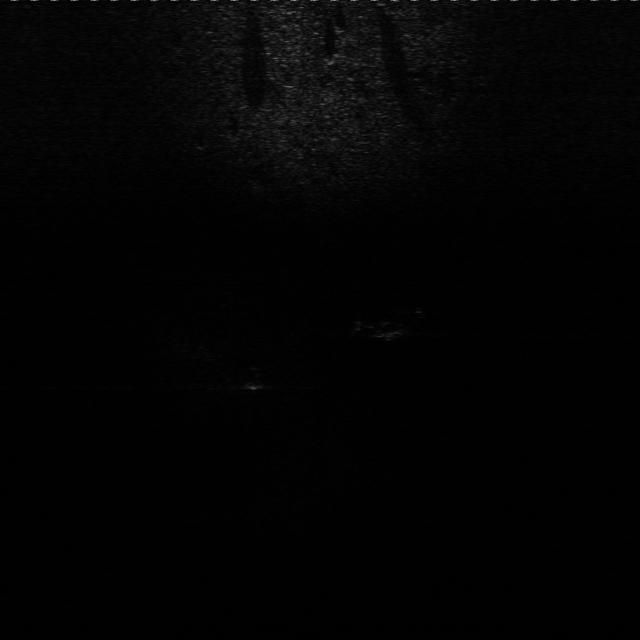ball: (234, 361, 276, 392)
human body: (348, 308, 434, 343)
